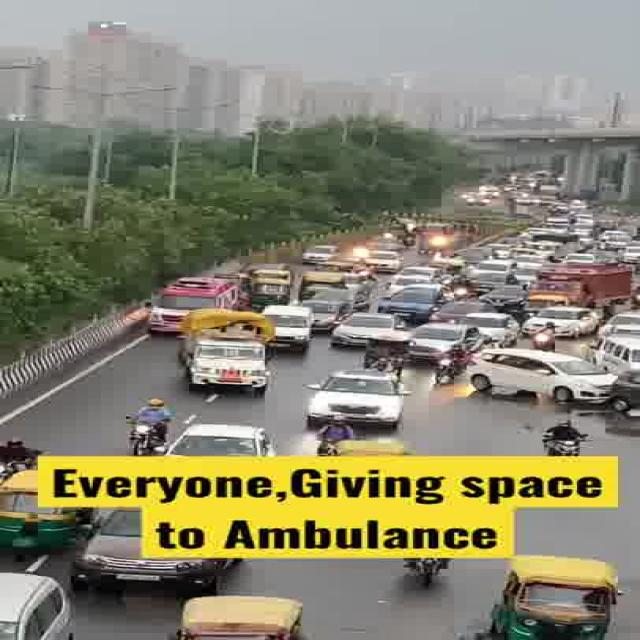ambulance: (143, 276, 243, 308)
